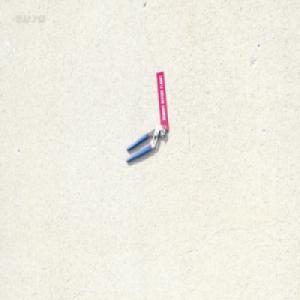Label: (155, 70, 169, 131)
Pliers: (125, 123, 166, 163)
